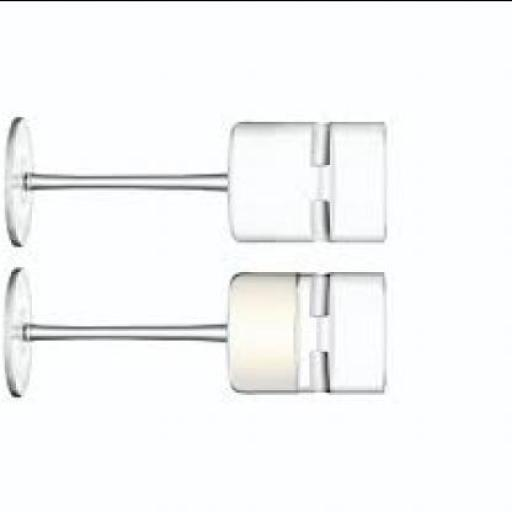glass: (9, 269, 390, 401), (11, 118, 391, 249)
